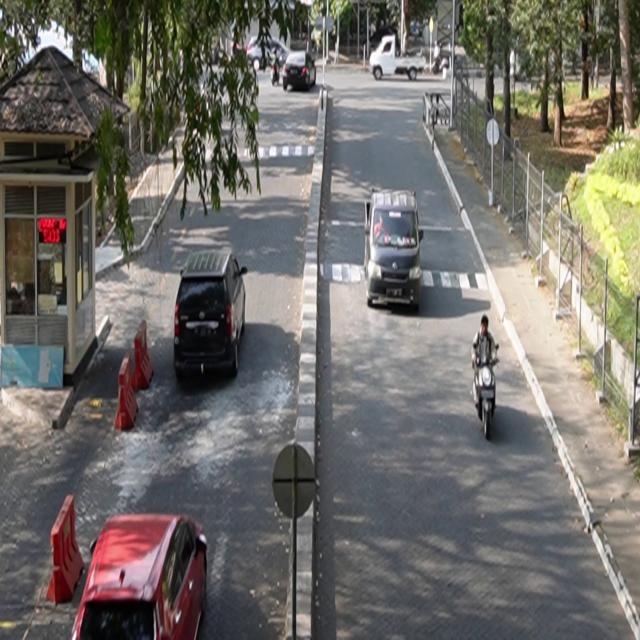car: (71, 514, 209, 640), (174, 249, 249, 381), (365, 189, 424, 311), (283, 52, 317, 93)
